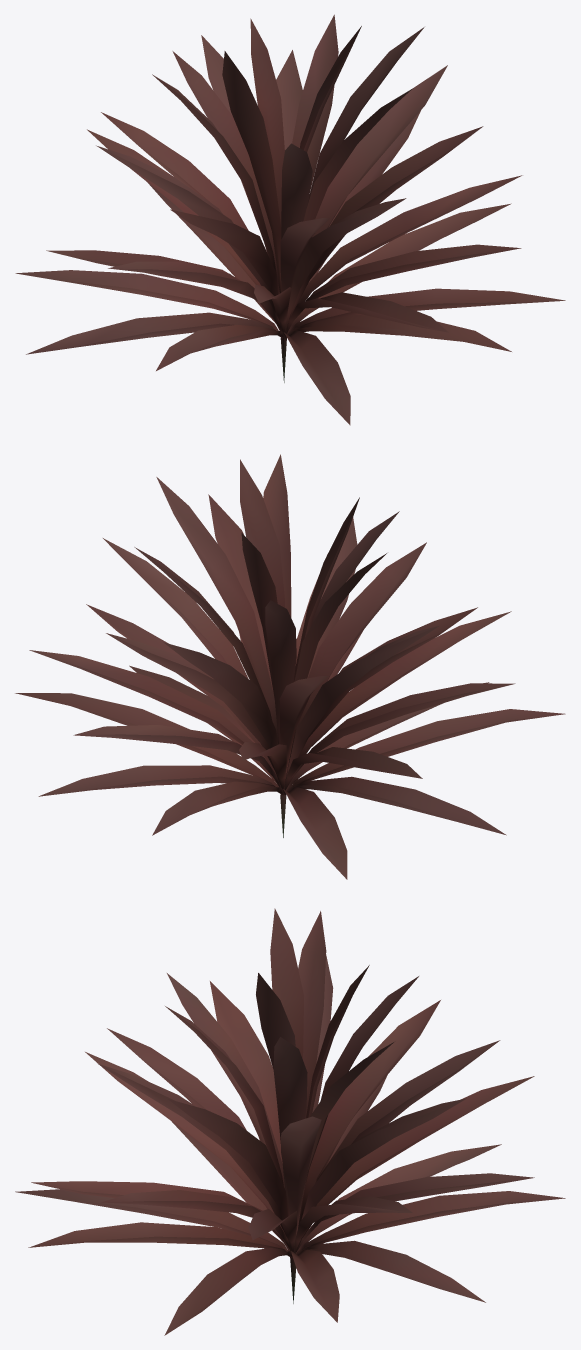
File: plants-leafy-plants-red-spiky-plant_v1.fbx
The picture shows the model from 3 angles, top to bottom: view 1: azimuth 30°, elevation 25°; view 2: azimuth 150°, elevation 25°; view 3: azimuth 270°, elevation 25°; orthographic projection. The views are drawn at different scales.
Visible parts, largest first — view 1: Red Spiky Plant_v1; view 2: Red Spiky Plant_v1; view 3: Red Spiky Plant_v1.
Part boxes in pixels (x1,y1,x2,y2): Red Spiky Plant_v1: (15,14,565,425); Red Spiky Plant_v1: (15,454,565,879); Red Spiky Plant_v1: (15,908,565,1335).
Size of the model in its own units: 0.8 by 0.5547 by 0.7662.
